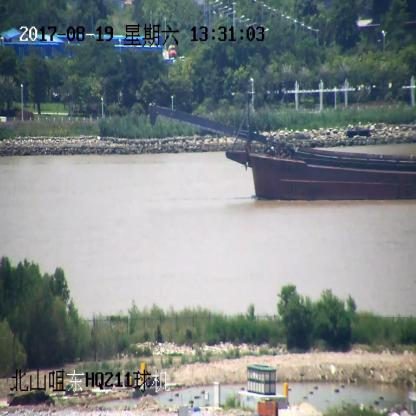Bulk Carrier: (149, 90, 415, 203)
